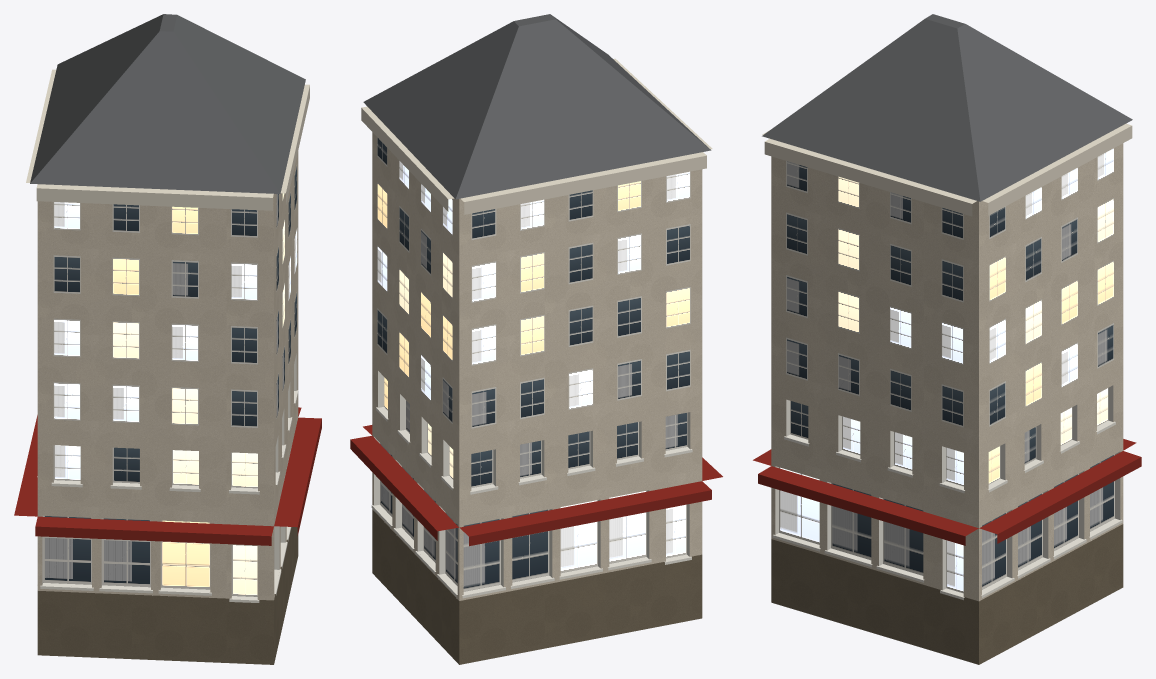
Rendered from z2_josef130.glb.
3 renders of one model, left to right at view 1: azimuth 30°, elevation 25°; view 2: azimuth 150°, elevation 25°; view 3: azimuth 270°, elevation 25°, orthographic.
Parts seen in each view (by area): view 1: z2_josef130; view 2: z2_josef130; view 3: z2_josef130.
Part boxes in pixels (x1,y1,x2,y2): z2_josef130: (14,14,321,664); z2_josef130: (350,14,722,664); z2_josef130: (753,14,1141,664).
Size of the model in its own units: 16.08 by 27.05 by 16.64.
3 materials, 3 textured.
